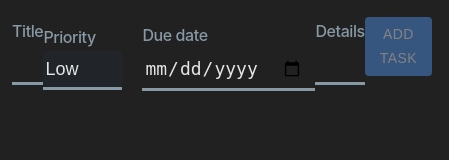
Test: requires a title in order to submit
Expected: the button "Add task" is disabled, [365,16,432,76]
Type "Go to the store" into the field labelled "Title" at (28, 64), box [12,45,43,82]
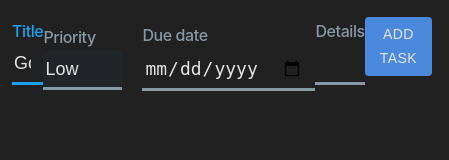
Now the button "Add task" is enabled, box [365,16,432,76]
